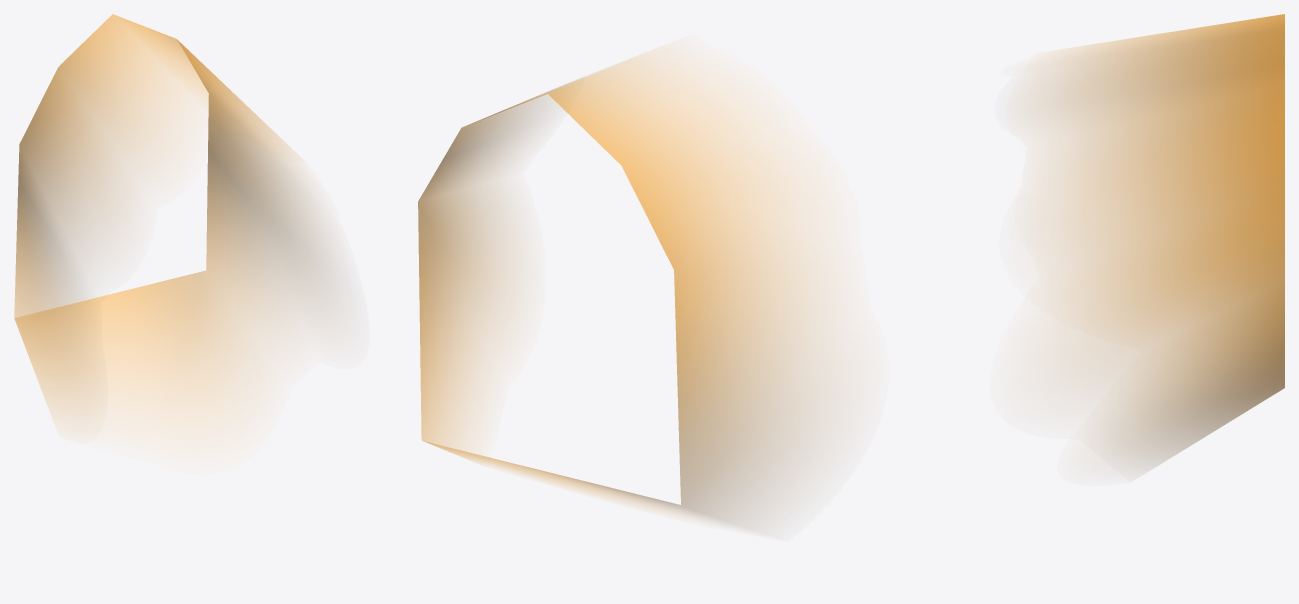
Rendered from wallLight.glb.
The picture shows the model from 3 angles, left to right: view 1: azimuth 30°, elevation 25°; view 2: azimuth 150°, elevation 25°; view 3: azimuth 270°, elevation 25°; orthographic projection. The views are drawn at different scales.
Parts seen in each view (by area): view 1: light; view 2: light; view 3: light.
Boxes of the visible parts, bbox=[...] form: light: bbox=[14, 14, 325, 422]; light: bbox=[418, 53, 820, 524]; light: bbox=[1034, 14, 1284, 467].
Bounding box in the file's own units: 4.38 × 6.71 × 3.97.
Materials: 1 (1 with a texture image).
